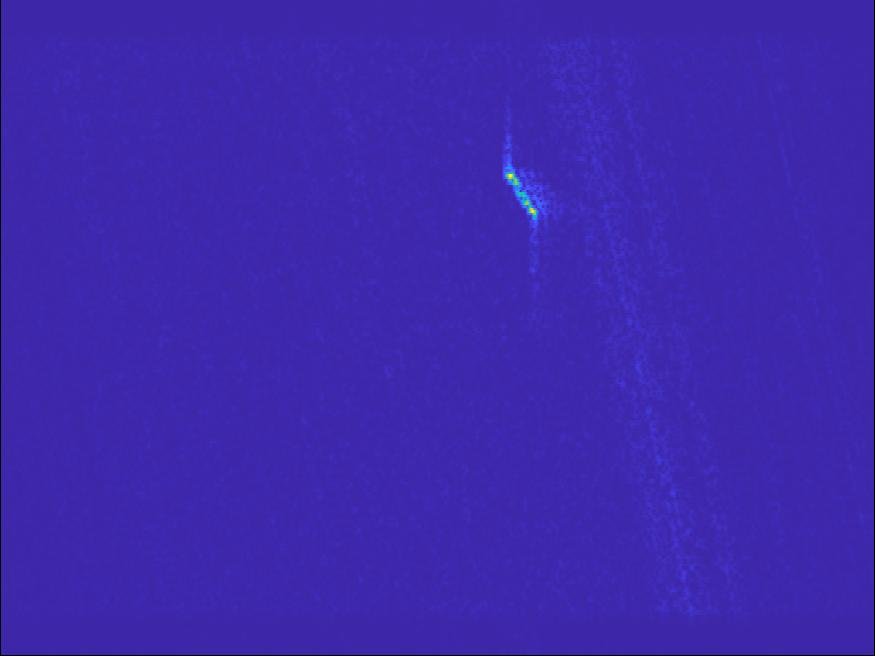Interference: (429, 84, 664, 338), (371, 284, 495, 320)
